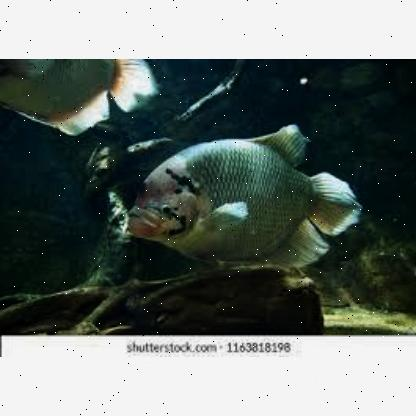gurame: (124, 127, 350, 271)
